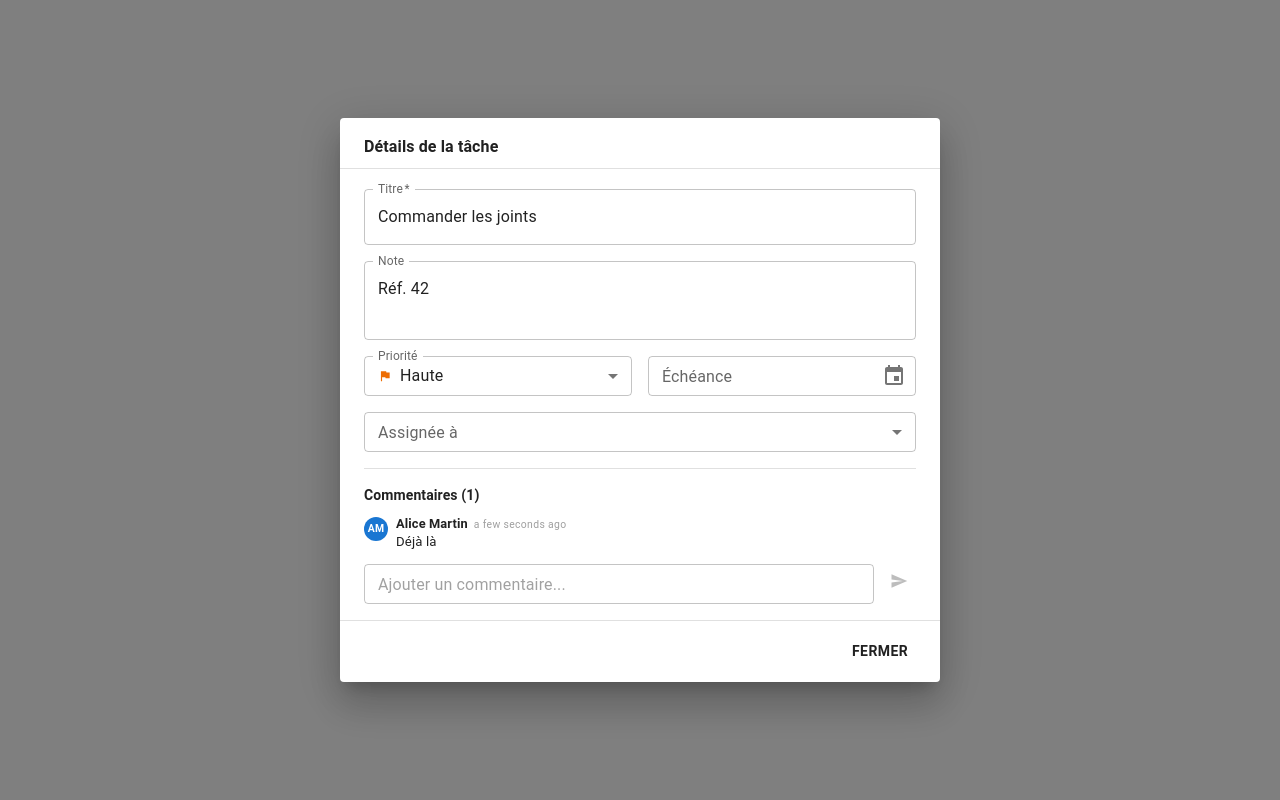
Test: TaskDetailsDialog › affiche le fil de commentaires et en ajoute un
Expected: the text "Déjà là" is shown, [396,534,437,549]
Expected: the text "Alice Martin" is shown, [396,515,468,533]
Type "Nouveau commentaire" into the text box named "Nouveau commentaire" at (619, 584), box [378,573,860,596]
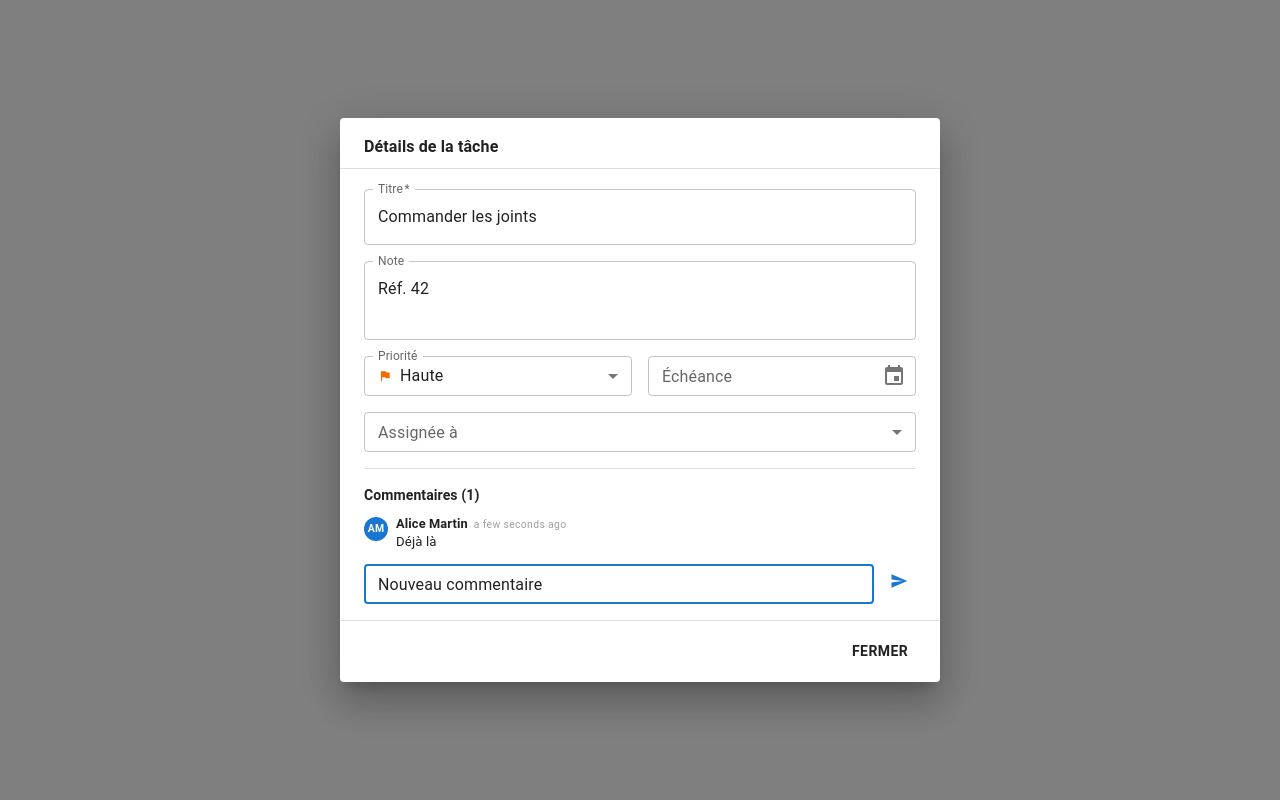
Click the button named "Envoyer le commentaire" at (899, 581), box [882,564,916,598]
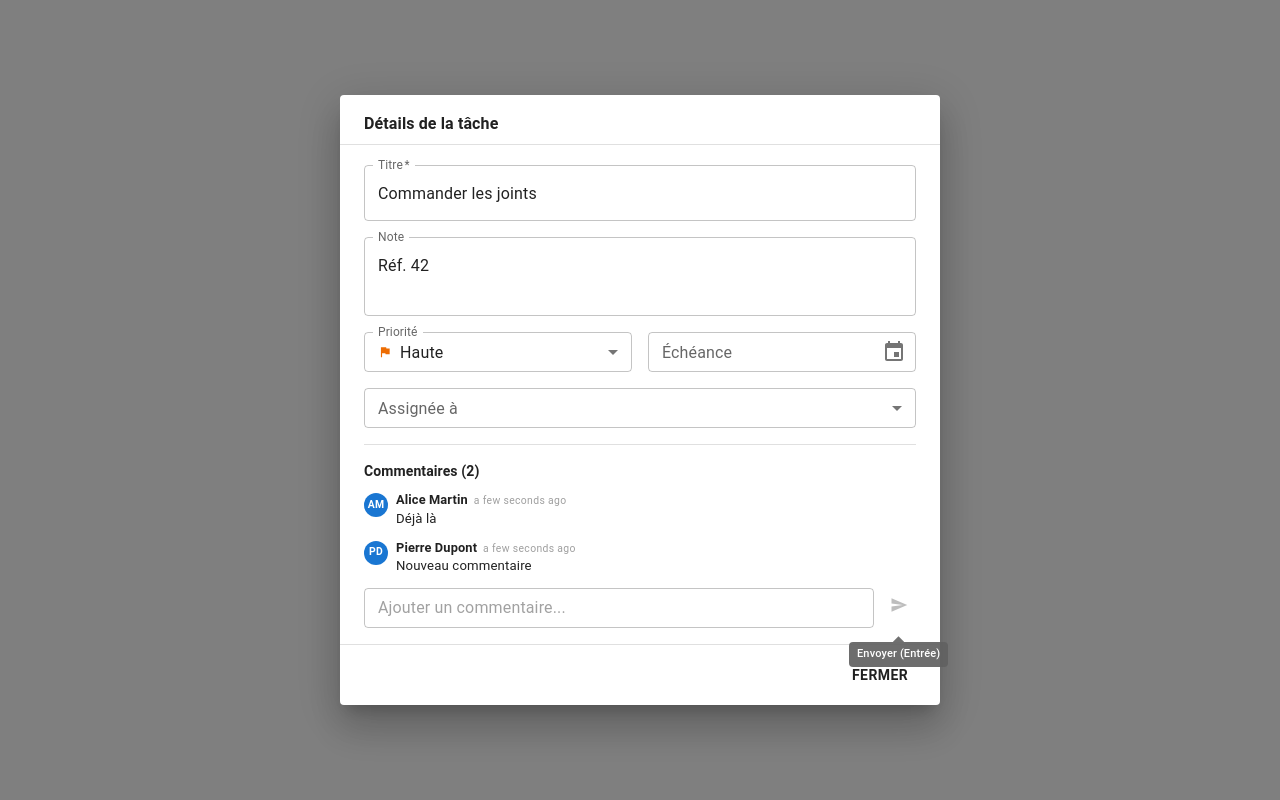
Expected: the text "Nouveau commentaire" is shown, [396,558,532,573]
